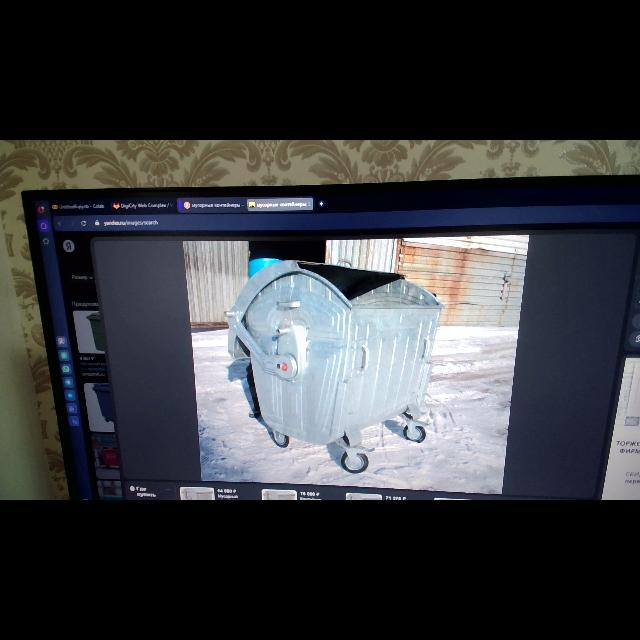Trash_Can_Empty: (228, 259, 444, 444)
